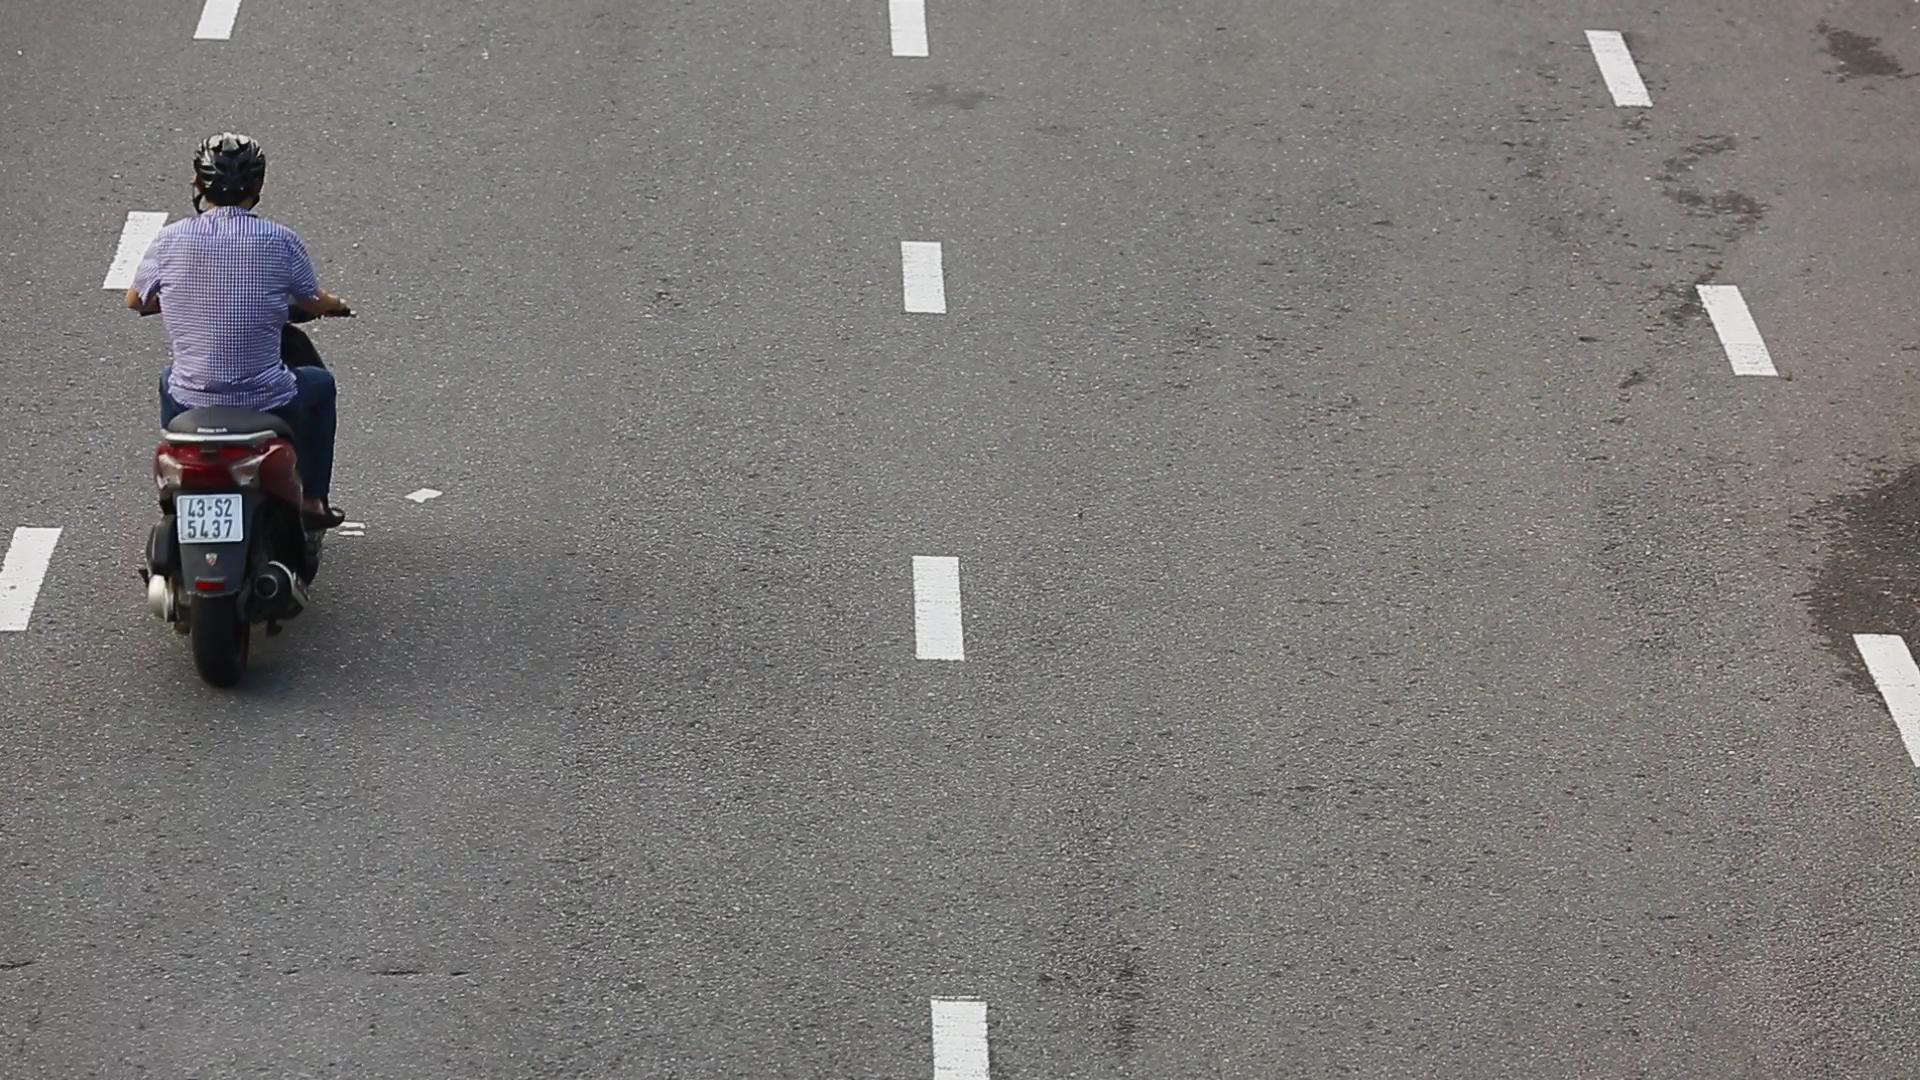motobike: (112, 131, 380, 691)
